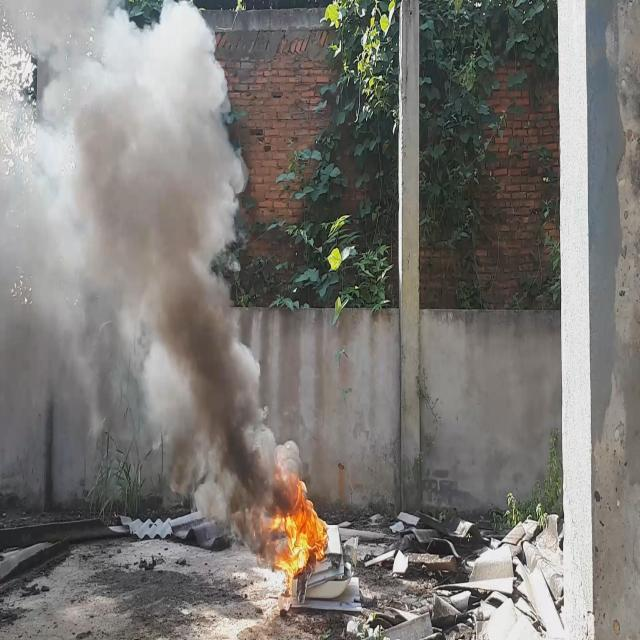Fire: (268, 462, 332, 581)
Smoke: (0, 0, 303, 550)
